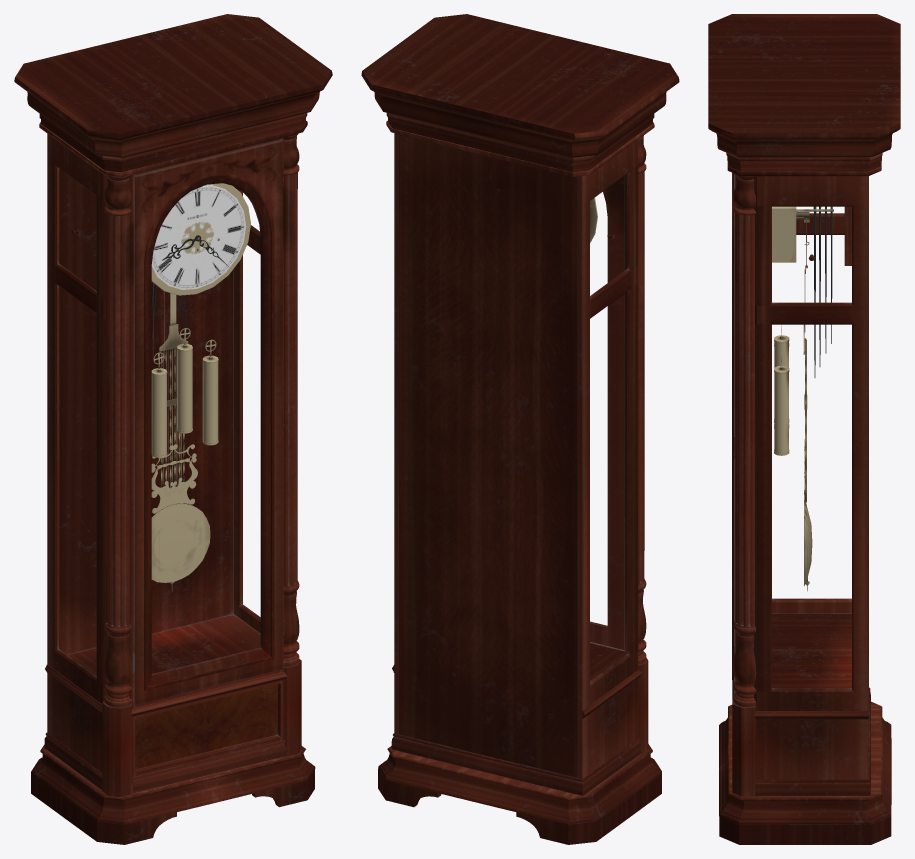
The model's file is grandfather_clock.glb.
3 views of the same model, side by side, from view 1: azimuth 30°, elevation 25°; view 2: azimuth 150°, elevation 25°; view 3: azimuth 270°, elevation 25° (orthographic).
Parts seen in each view (by area): view 1: Back_GR, Top_GR, Door_GR, GrandFatherClockGameRes26:Side2, GrandFatherClockGameRes26:Pillar2, Pillar_GR, BaseFace_GR, ClockFace_GR, GrandFatherClockGameRes26:Base2, Side_GR, Floor_GR, Pendulum_GR (+16 smaller); view 2: Back_GR, Top_GR, GrandFatherClockGameRes26:Side2, Door_GR, GrandFatherClockGameRes26:Base2, GrandFatherClockGameRes26:Pillar2, SkirtingSide_GR, Base_GR, Side_GR, GrandFatherClockGameRes26:Feet2, Foot_GR, GrandFatherClockGameRes26:PillarBase2 (+1 smaller); view 3: Side_GR, Top_GR, Pillar_GR, Base_GR, Floor_GR, Foot_GR, PillarBase_GR, GrandFatherClockGameRes26:Side2, SkirtingSide_GR, GrandFatherClockGameRes26:Base2, Door_GR, MechanismBox_GR (+6 smaller).
Part boxes in pixels (left/top/right/bottom): Back_GR: left=59, top=169, right=233, bottom=654; Top_GR: left=14, top=14, right=332, bottom=177; Door_GR: left=134, top=140, right=282, bottom=705; GrandFatherClockGameRes26:Side2: left=47, top=134, right=135, bottom=781; GrandFatherClockGameRes26:Pillar2: left=104, top=175, right=131, bottom=707; Pillar_GR: left=283, top=134, right=299, bottom=666; BaseFace_GR: left=135, top=684, right=277, bottom=769; ClockFace_GR: left=151, top=185, right=246, bottom=289; GrandFatherClockGameRes26:Base2: left=31, top=744, right=216, bottom=824; Side_GR: left=233, top=138, right=284, bottom=740; Floor_GR: left=67, top=614, right=260, bottom=675; Pendulum_GR: left=151, top=503, right=210, bottom=582; Back_GR: left=399, top=135, right=577, bottom=778; Top_GR: left=361, top=14, right=679, bottom=177; GrandFatherClockGameRes26:Side2: left=577, top=140, right=638, bottom=779; Door_GR: left=590, top=176, right=624, bottom=650; GrandFatherClockGameRes26:Base2: left=477, top=744, right=661, bottom=824; GrandFatherClockGameRes26:Pillar2: left=638, top=135, right=646, bottom=664; SkirtingSide_GR: left=391, top=736, right=641, bottom=795; Base_GR: left=378, top=746, right=486, bottom=802; Side_GR: left=394, top=133, right=398, bottom=734; GrandFatherClockGameRes26:Feet2: left=516, top=774, right=661, bottom=844; Foot_GR: left=378, top=769, right=441, bottom=807; GrandFatherClockGameRes26:PillarBase2: left=638, top=658, right=648, bottom=753; Side_GR: left=735, top=175, right=868, bottom=779; Top_GR: left=708, top=14, right=900, bottom=176; Pillar_GR: left=733, top=173, right=756, bottom=707; Base_GR: left=719, top=749, right=891, bottom=824; Floor_GR: left=772, top=614, right=851, bottom=688; Foot_GR: left=719, top=816, right=891, bottom=844; PillarBase_GR: left=732, top=699, right=756, bottom=796; GrandFatherClockGameRes26:Side2: left=772, top=176, right=868, bottom=613; SkirtingSide_GR: left=754, top=692, right=870, bottom=796; GrandFatherClockGameRes26:Base2: left=719, top=701, right=891, bottom=769; Door_GR: left=732, top=172, right=735, bottom=694; MechanismBox_GR: left=772, top=206, right=796, bottom=262.
Size of the model in its own units: 0.7155 by 2 by 0.4855.
Materials: 2 (2 with a texture image).
